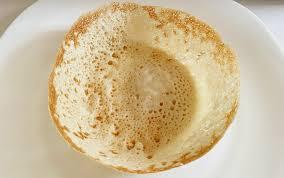Hoppers: (48, 5, 243, 175)
